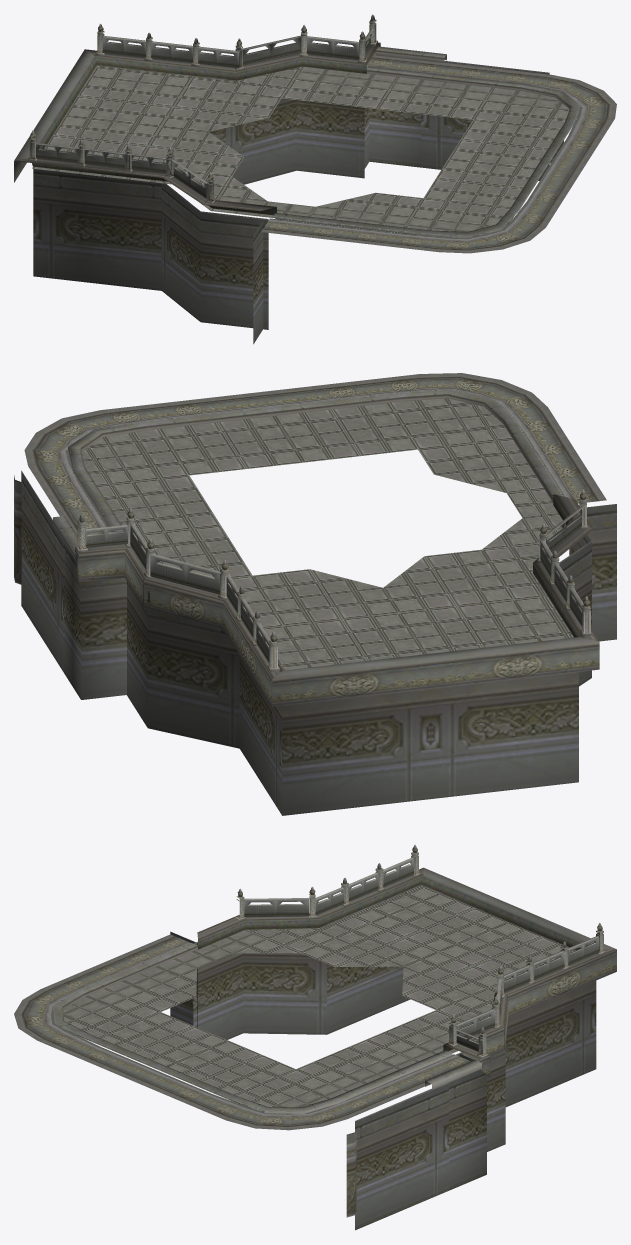
The model's file is S2_Build_XSC099_H1.FBX.
3 renders of one model, top to bottom at view 1: azimuth 30°, elevation 25°; view 2: azimuth 150°, elevation 25°; view 3: azimuth 270°, elevation 25°, orthographic. The views are drawn at different scales.
Parts seen in each view (by area): view 1: S2_Build_XSC099_H1; view 2: S2_Build_XSC099_H1; view 3: S2_Build_XSC099_H1.
Part boxes in pixels (<box>): S2_Build_XSC099_H1: <box>14,14,616,344</box>; S2_Build_XSC099_H1: <box>14,373,616,815</box>; S2_Build_XSC099_H1: <box>14,845,616,1230</box>.
Size of the model in its own units: 7406 by 2020 by 7406.
